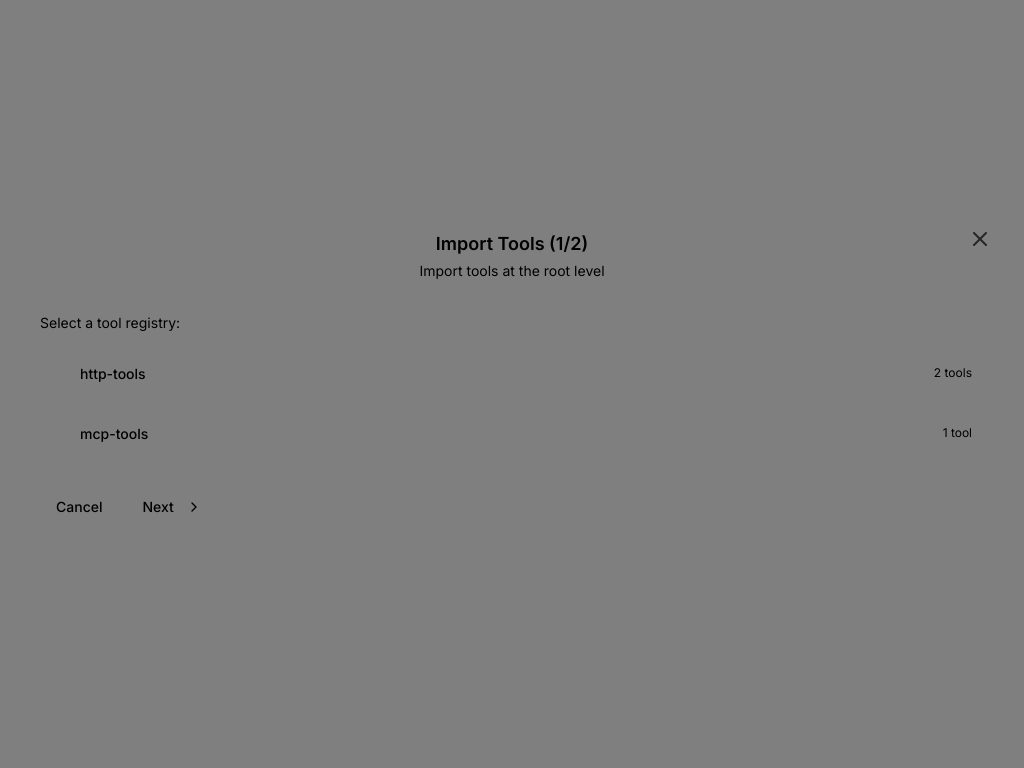
Test: ImportToolDialog › should navigate back to step 1
// Navigate to step 2
Click the text "http-tools" at [113, 374], box top-left (80, 365), bottom-right (146, 382)
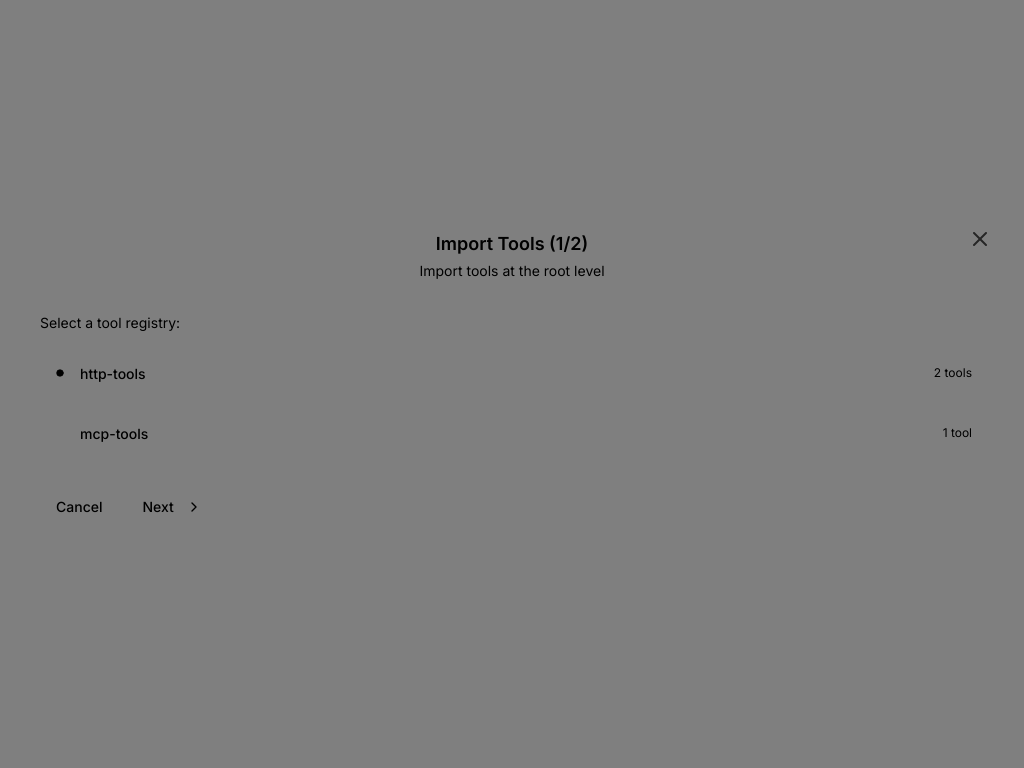
Click the button "Next" at [172, 507], box top-left (126, 489), bottom-right (218, 525)
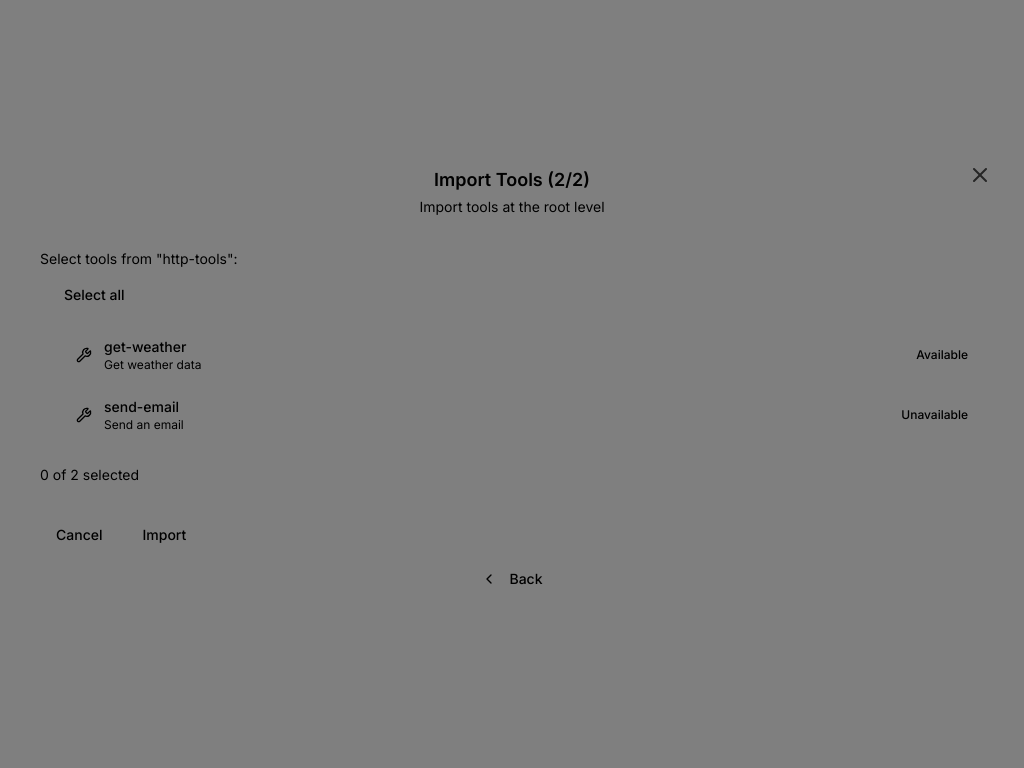
// Click Back
Click the button "Back" at [512, 579], box top-left (40, 561), bottom-right (984, 597)
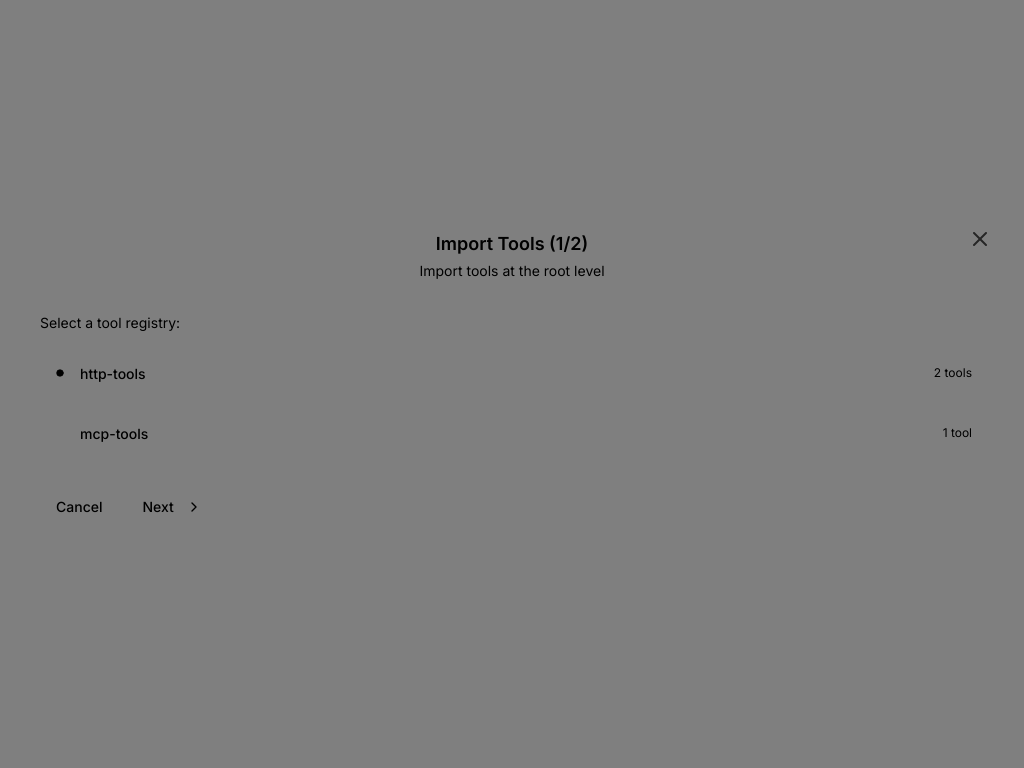
expect the heading "Import Tools (1/2)" is shown: met, box top-left (436, 233), bottom-right (588, 254)
